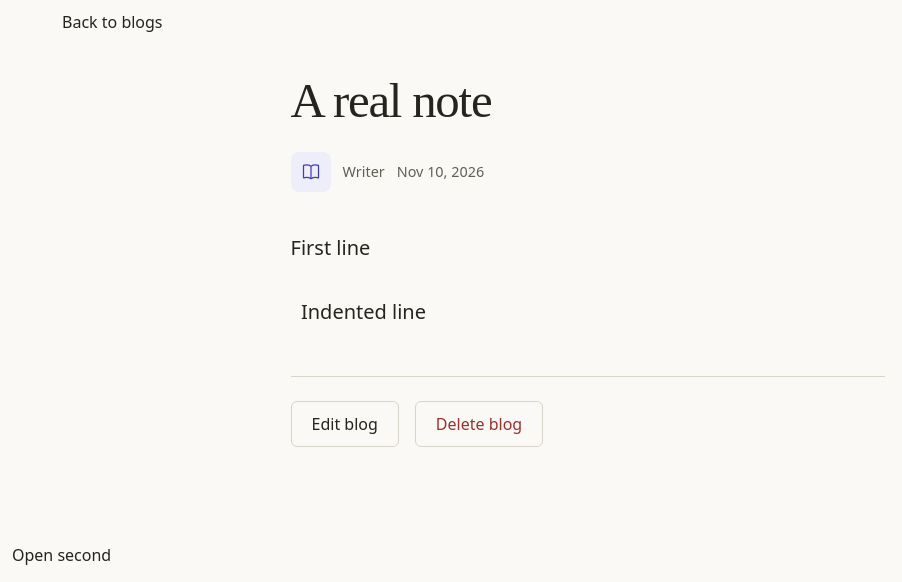
Test: ReadBlog › rejects changed ownership on fresh mutation read despite stale visible controls
The image size is (902, 582).
Click the button "Delete blog" at (479, 424), box [415, 401, 543, 447]
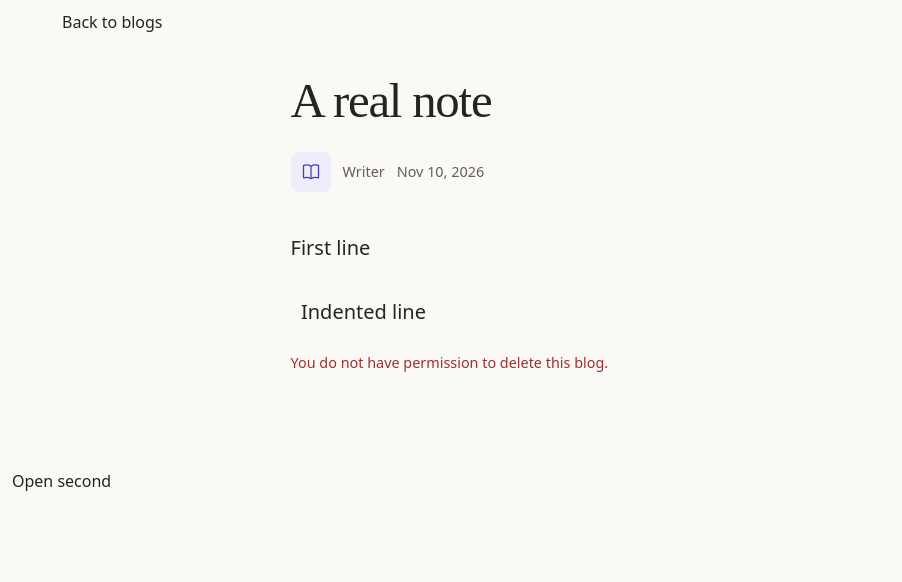
Expected: the message reads "You do not have permission to delete this blog.", [291, 353, 608, 372]
Expected: the button "Delete blog" is gone
